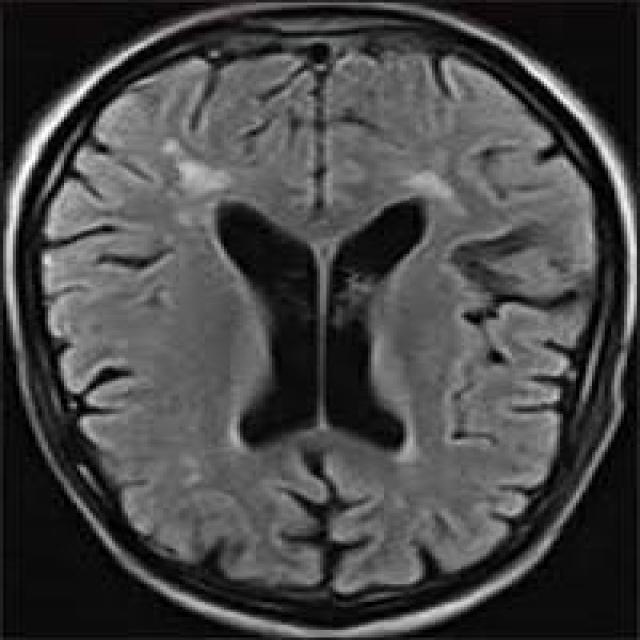notumor: (3, 3, 634, 635)
